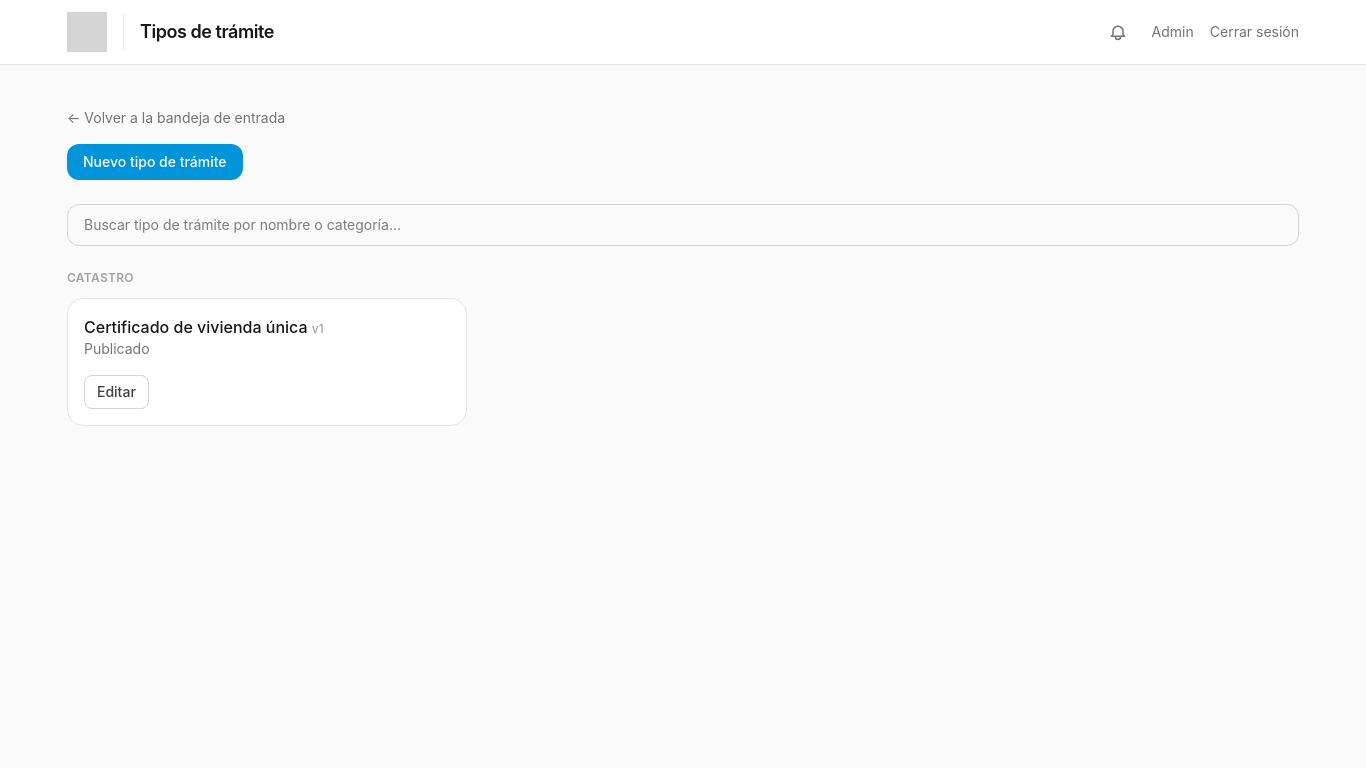
Test: TiposTramite › avisa cuando editar un tipo publicado con instancias crea una nueva versión
Expected: the text "Certificado de vivienda única" is shown, [84,317,308,337]
Click the button "Editar": (116, 392) [84,375,149,409]
(page scrolled)
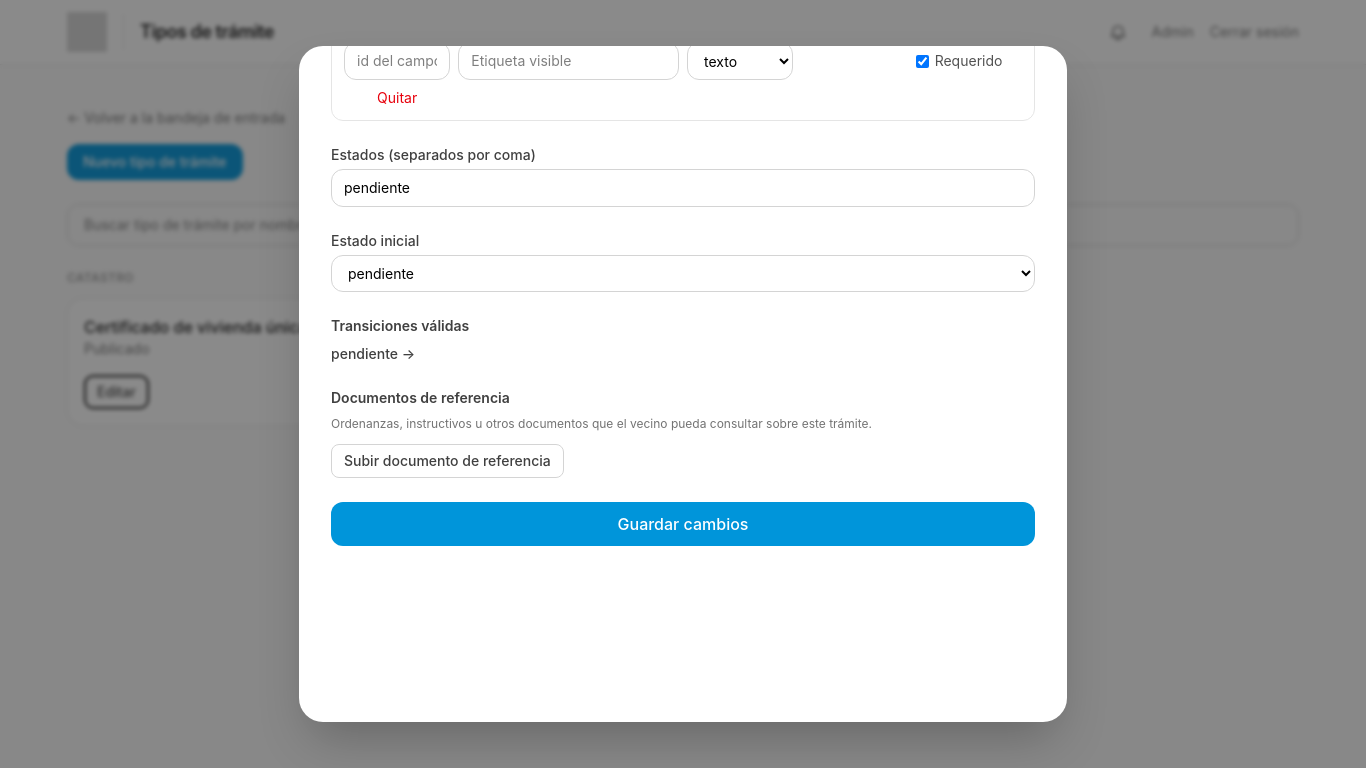
Click the button "Guardar cambios": (683, 524) [331,502,1035,546]
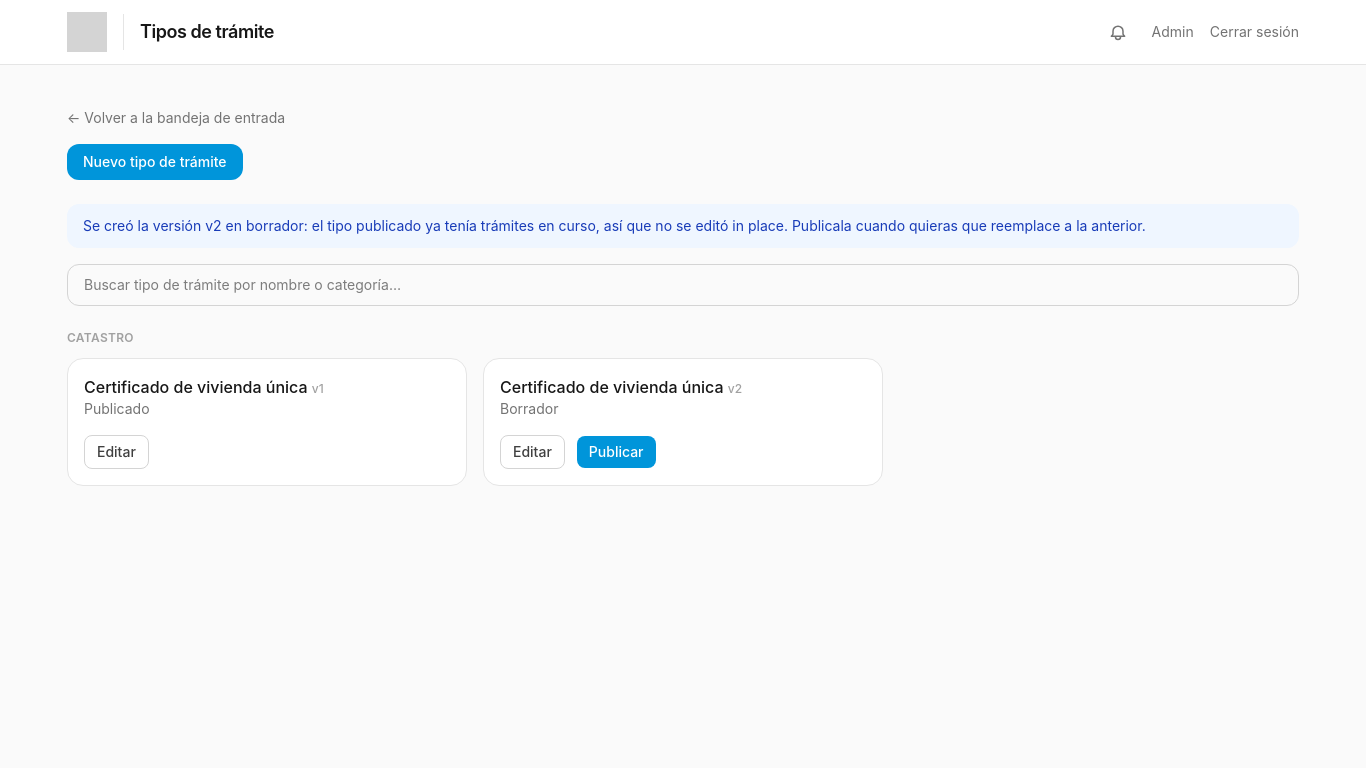
Expected: the text "Se creó la versión v2" is shown, [83,217,1146,234]
